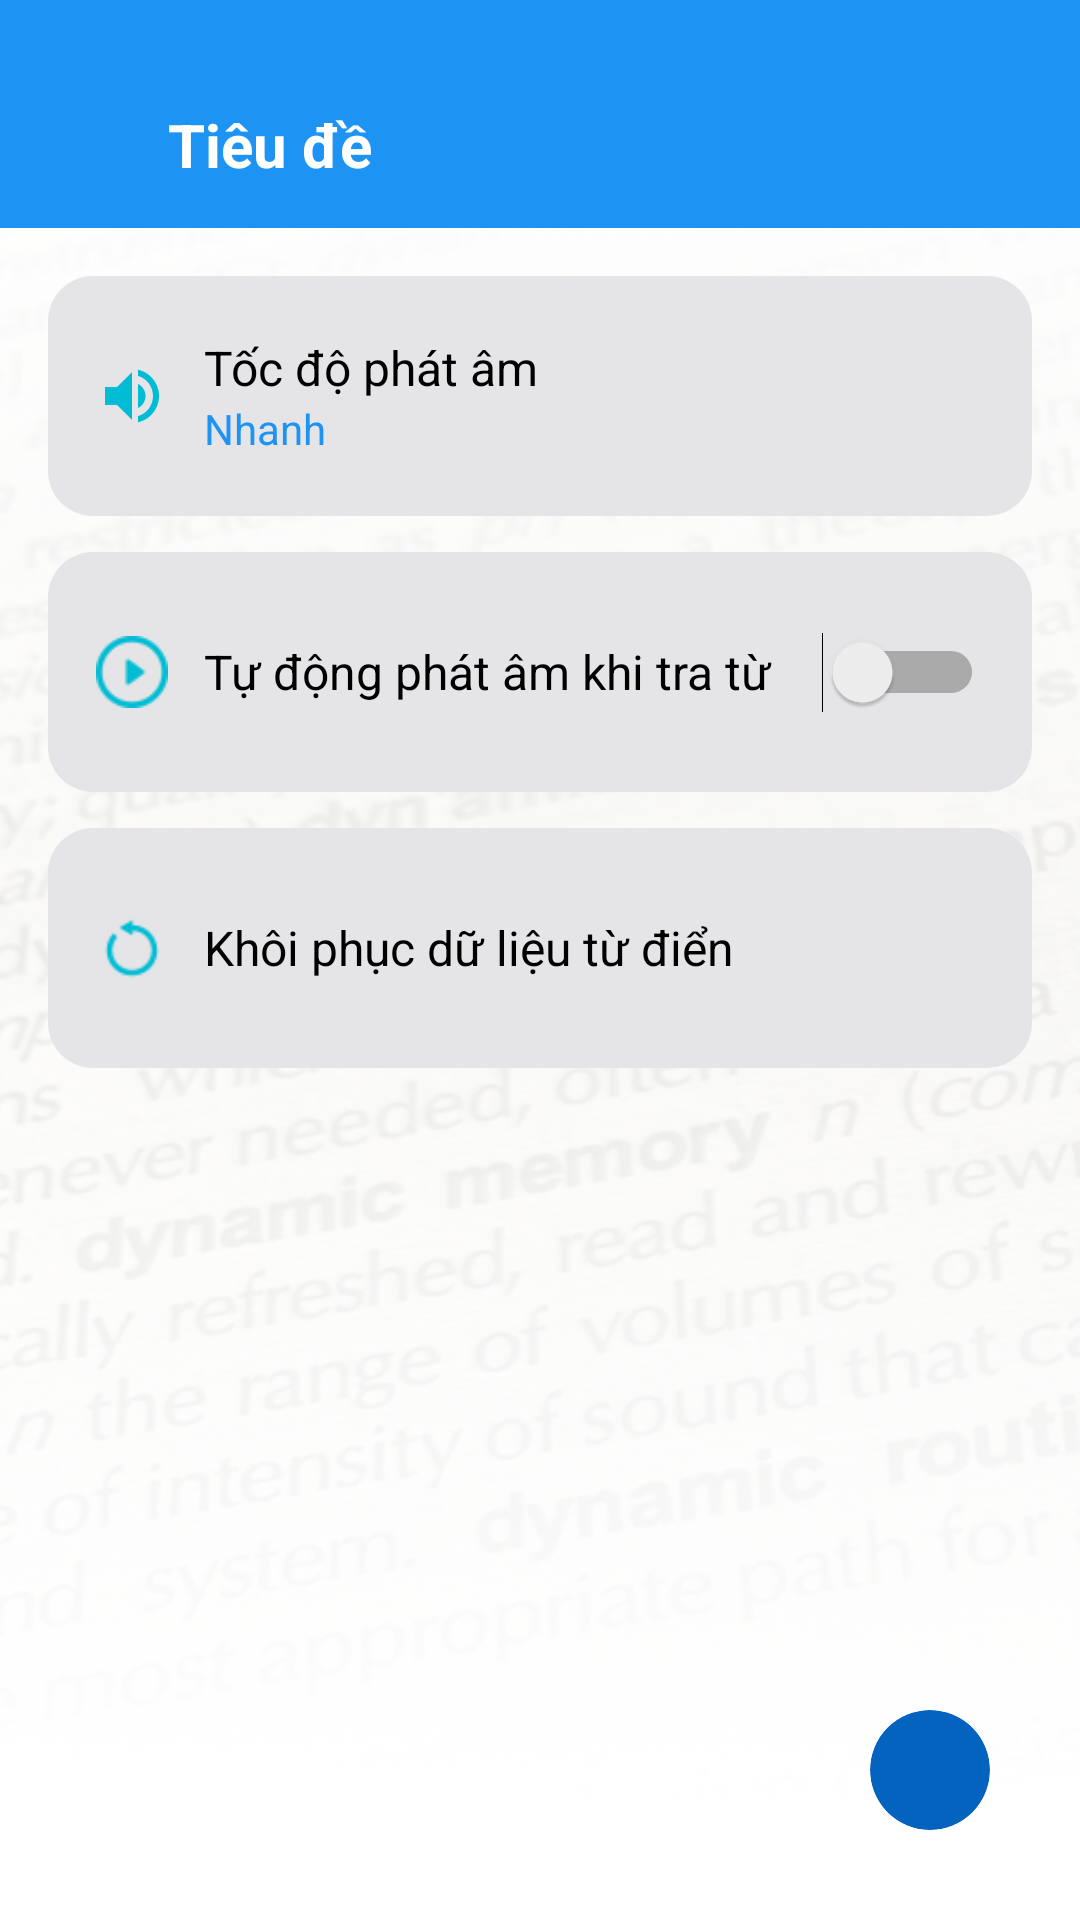

Icons on this 1080x1920 Android screen, each with its box as {"x1": x1, "y1": y1, "x2": x2, "y2": y2}:
play: {"x1": 96, "y1": 636, "x2": 168, "y2": 708}
restore: {"x1": 105, "y1": 920, "x2": 159, "y2": 977}
speaker: {"x1": 105, "y1": 369, "x2": 159, "y2": 423}
